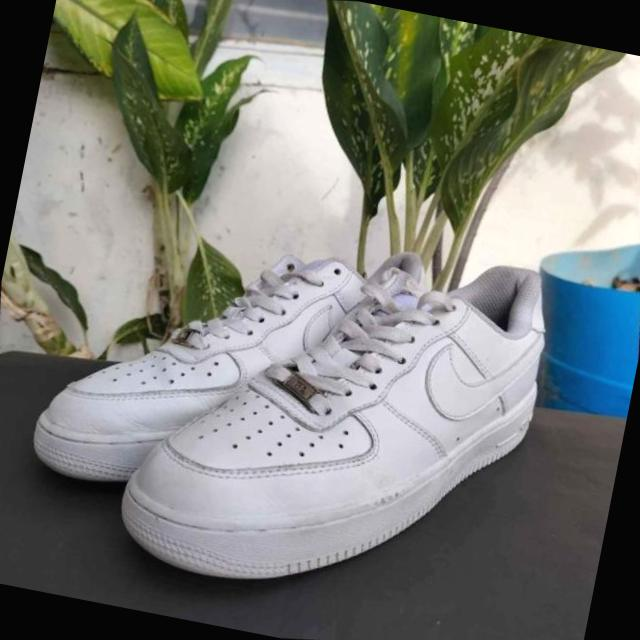nike_original_airforce: (67, 184, 596, 640), (0, 179, 461, 553)
